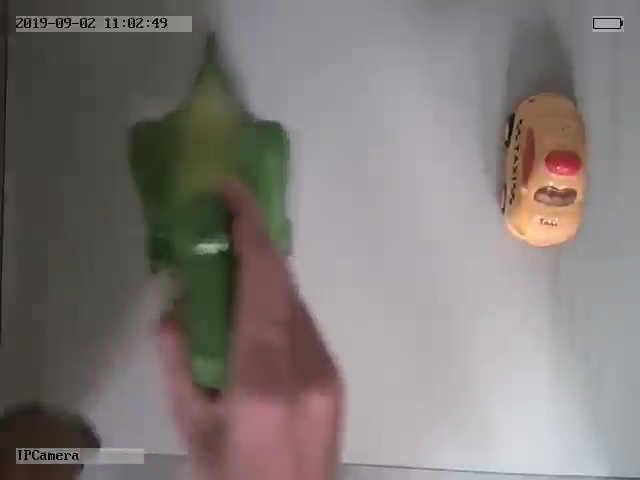car: (501, 90, 588, 249)
